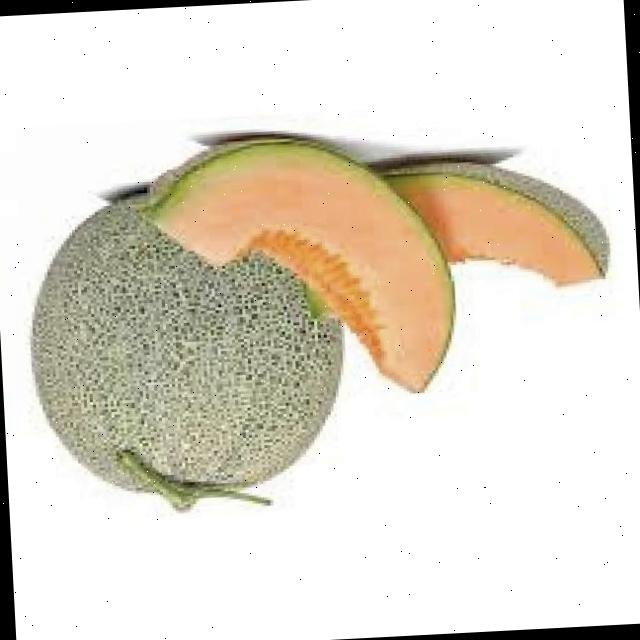Hami Melon: (23, 180, 350, 500), (148, 132, 457, 411)
